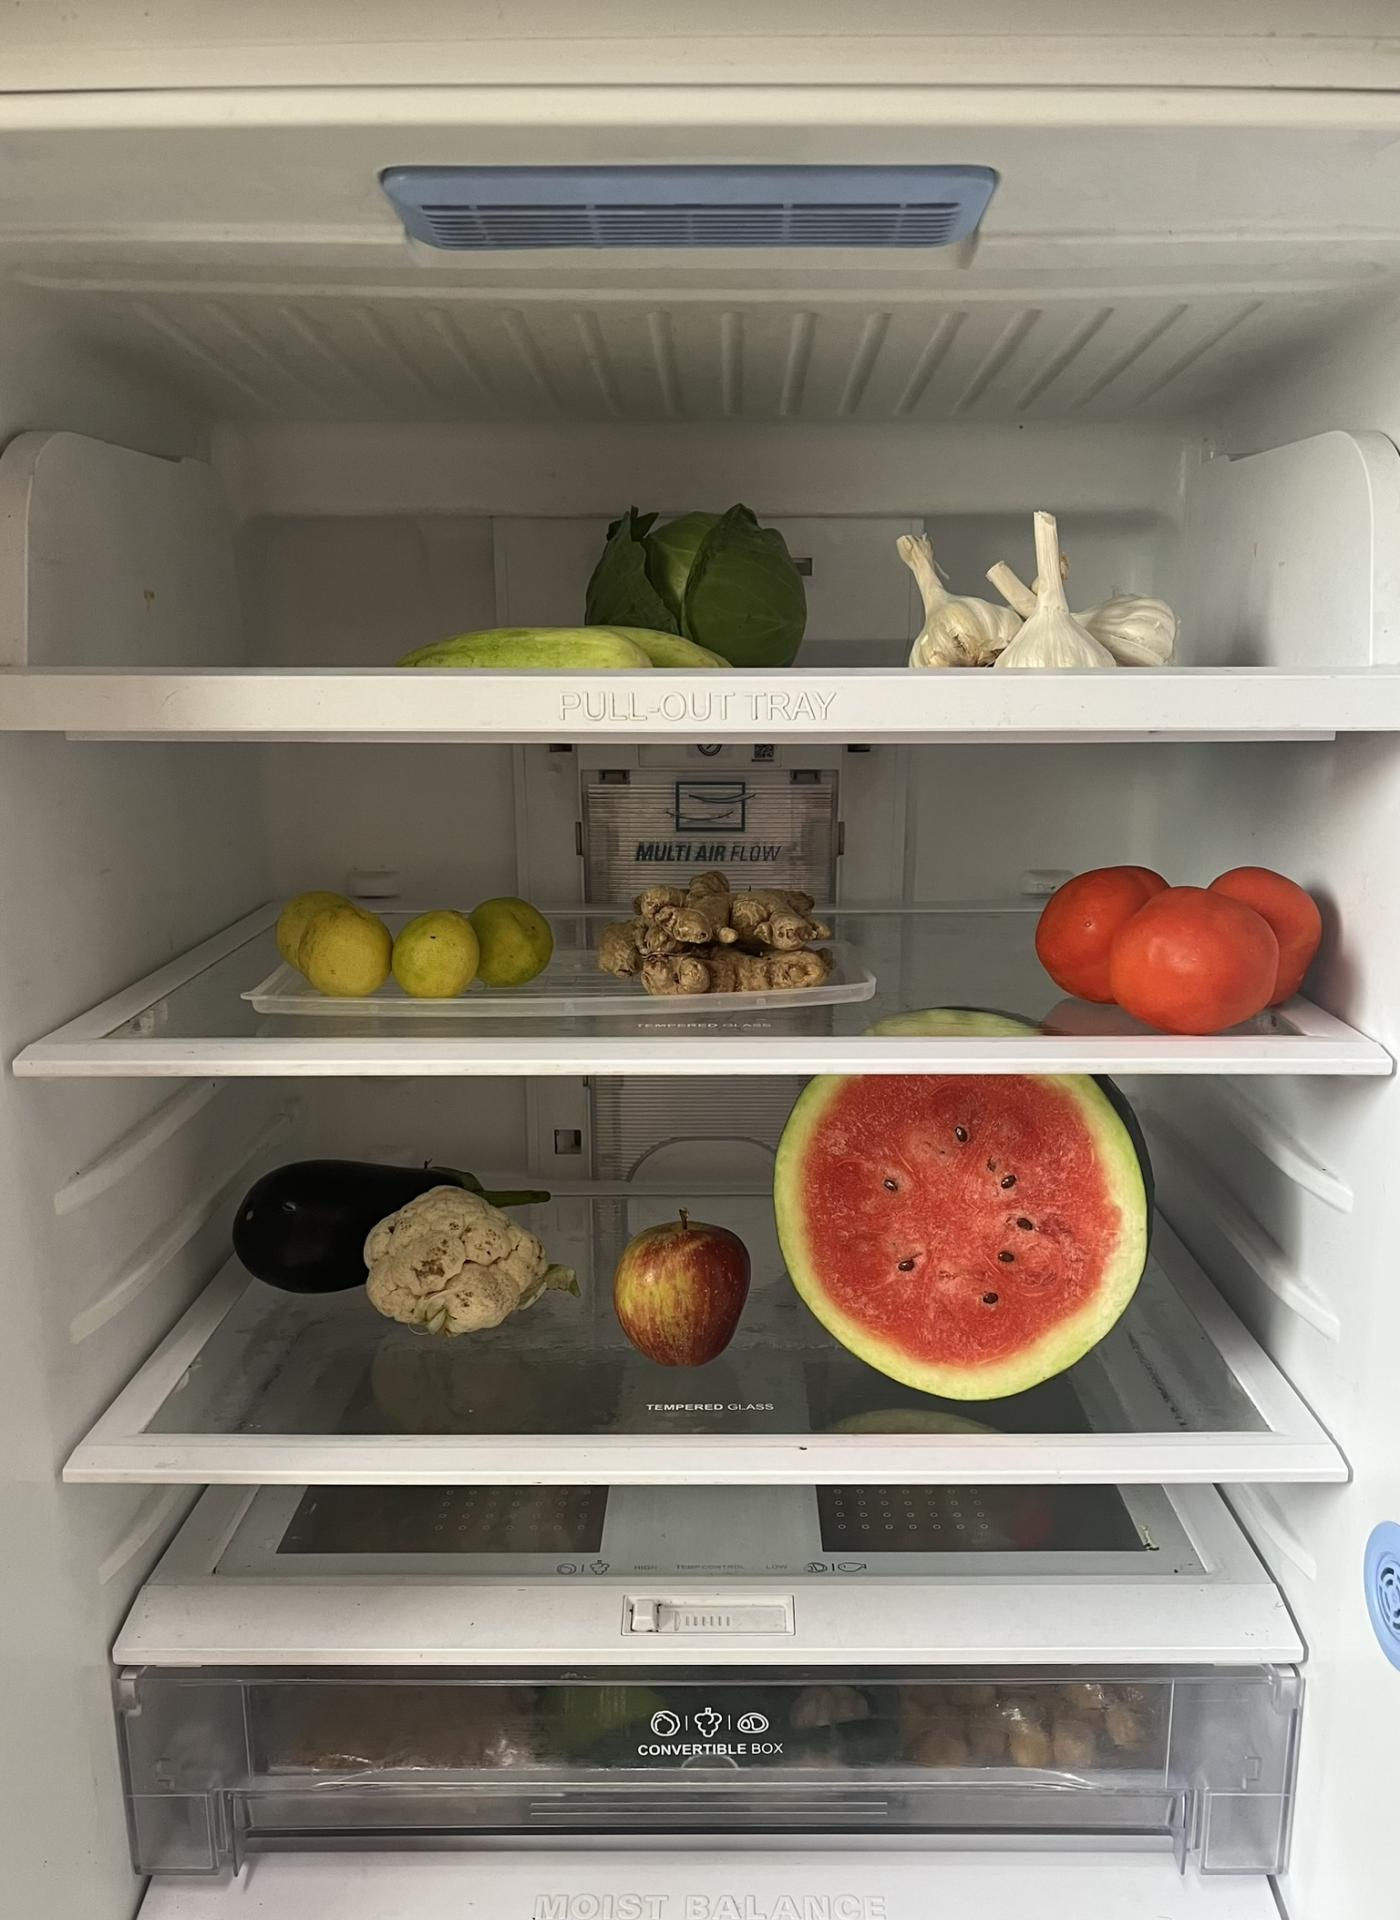apple: (607, 1196, 759, 1376)
cabbage: (892, 513, 1194, 671), (583, 499, 811, 668)
cauliflower: (355, 1184, 562, 1348)
ginger: (596, 863, 836, 1003)
lemon: (273, 891, 556, 996)
tomato: (1030, 853, 1322, 1029)
watermelon: (772, 1003, 1163, 1406)
